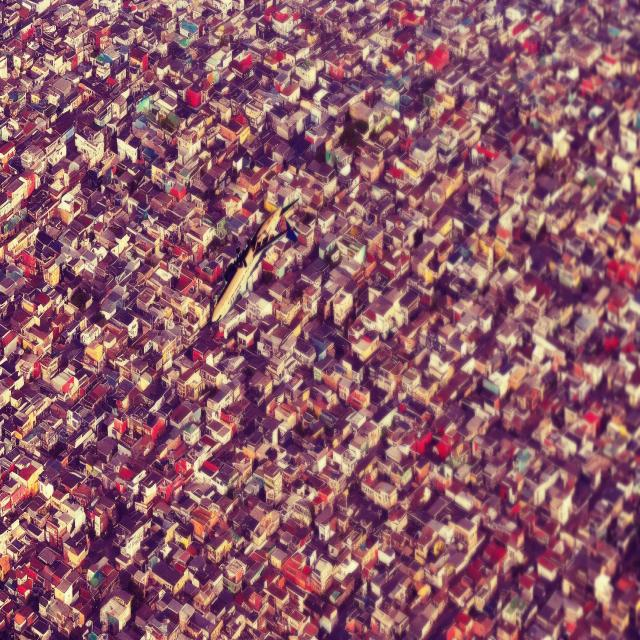airplane: (210, 188, 302, 325)
